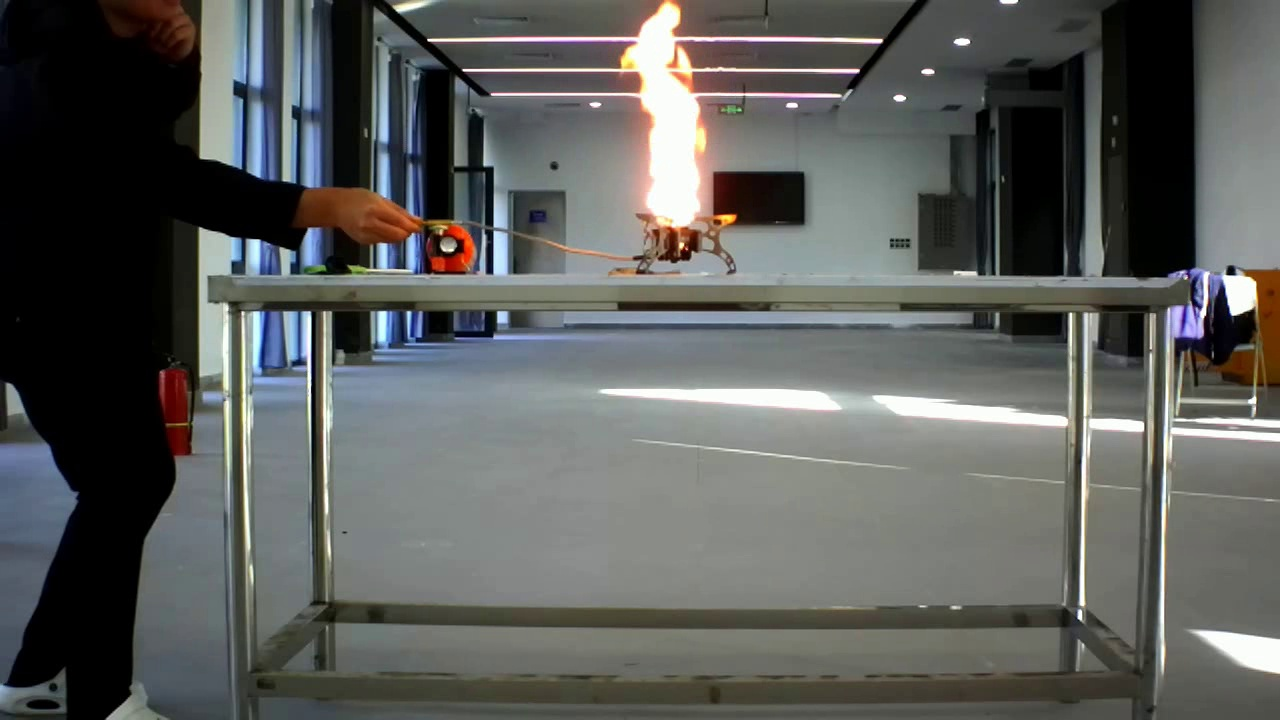Fire: (607, 0, 743, 264)
